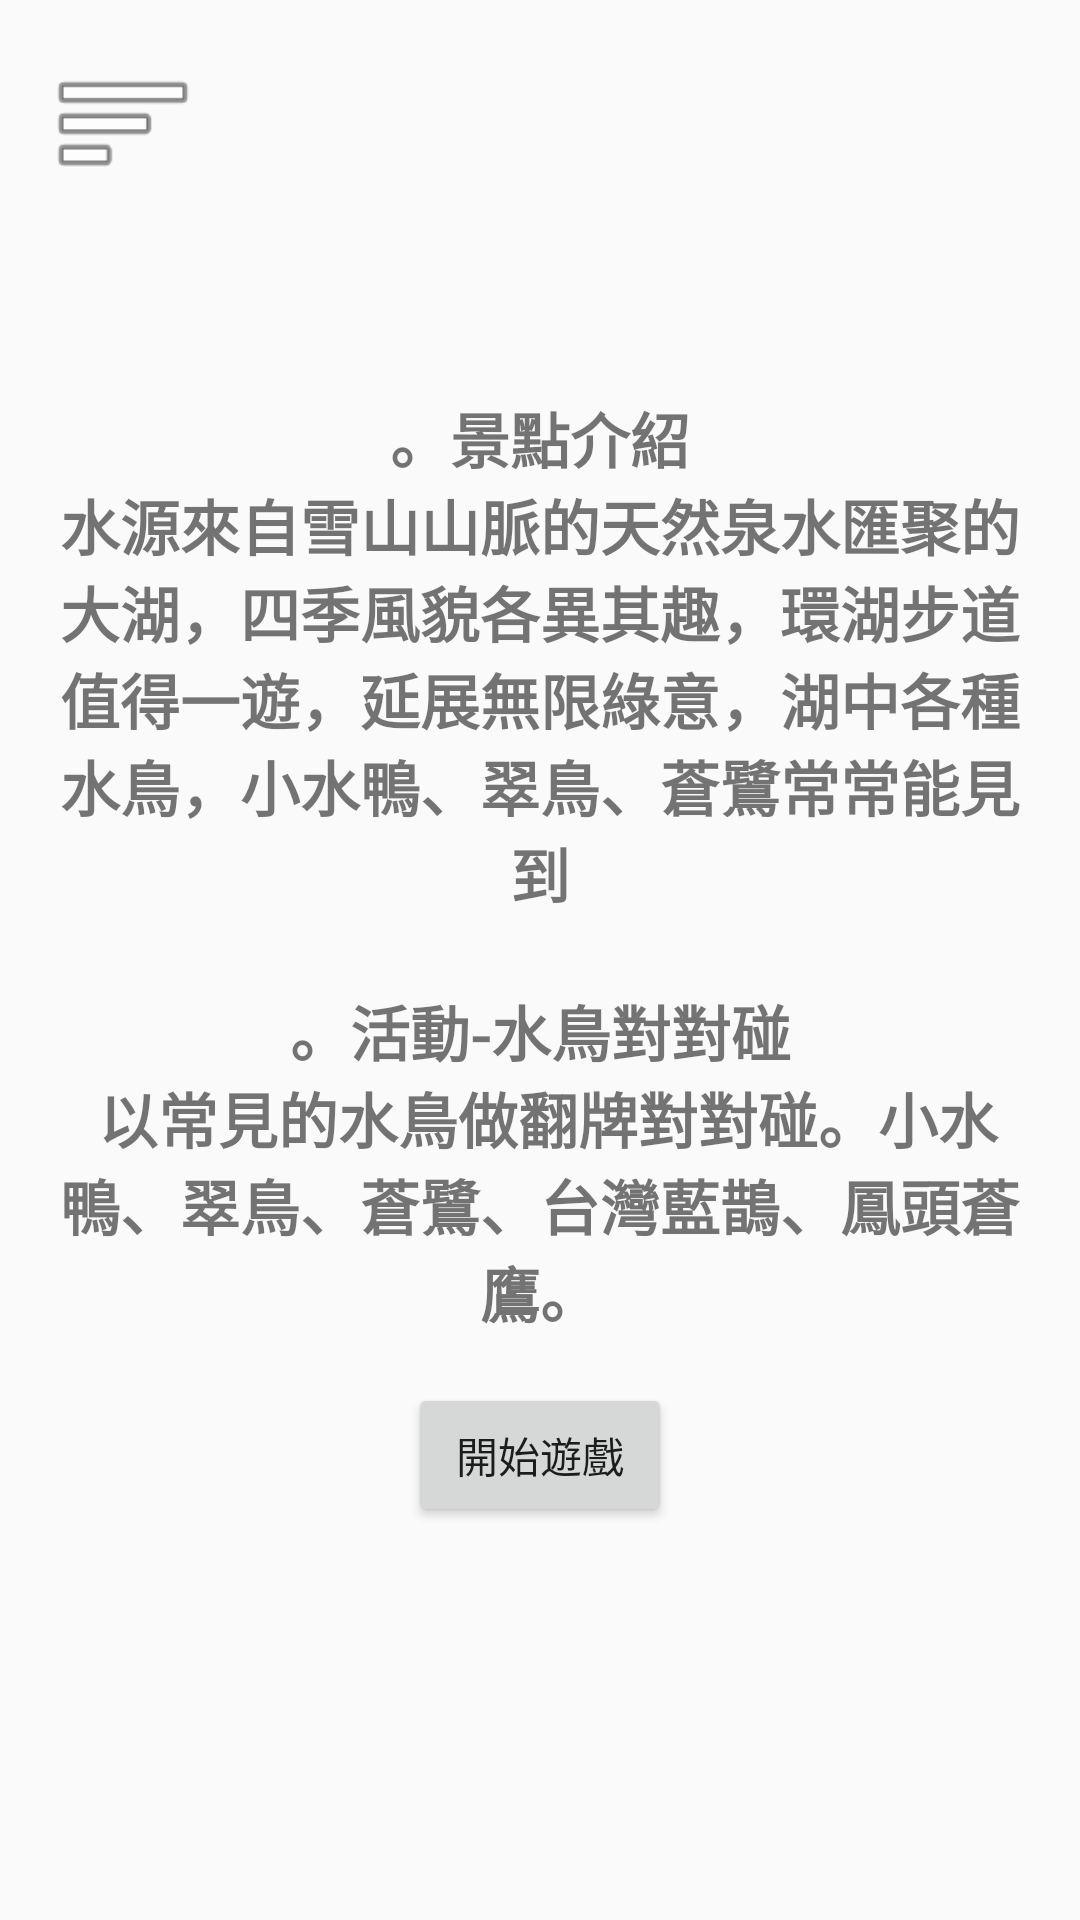

Screen size 1080*1920. Icon name, then its box in pixels as [left=x1, top=y1, right=x2, bottom=y2]:
sort by size: [left=58, top=82, right=188, bottom=166]
